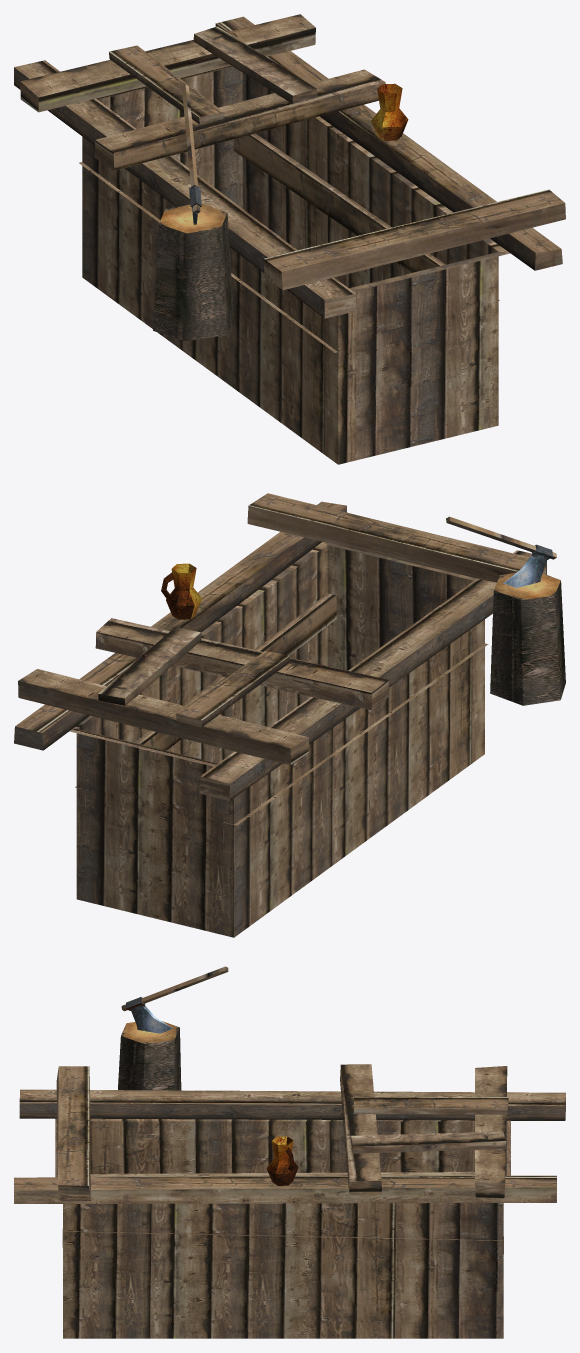
3 renders of one model, top to bottom at view 1: azimuth 30°, elevation 25°; view 2: azimuth 150°, elevation 25°; view 3: azimuth 270°, elevation 25°, orthographic. The views are drawn at different scales.
Parts seen in each view (by area): view 1: saw_pit.001; view 2: saw_pit.001; view 3: saw_pit.001.
Part boxes in pixels (<box>): saw_pit.001: <box>14,14,565,464</box>; saw_pit.001: <box>14,493,565,937</box>; saw_pit.001: <box>14,966,565,1338</box>.
Bounding box in the file's own units: 323 × 281 × 501.
Materials: 7 (7 with a texture image).
